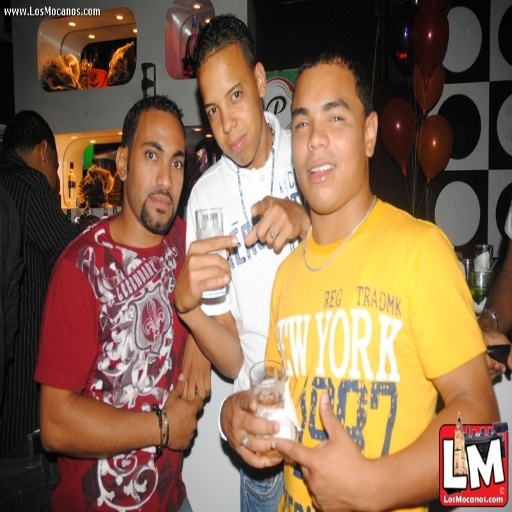hand: (270, 390, 369, 510), (220, 384, 286, 469), (171, 234, 238, 314), (160, 372, 204, 454), (248, 190, 307, 250), (178, 327, 211, 403), (481, 320, 511, 381)
